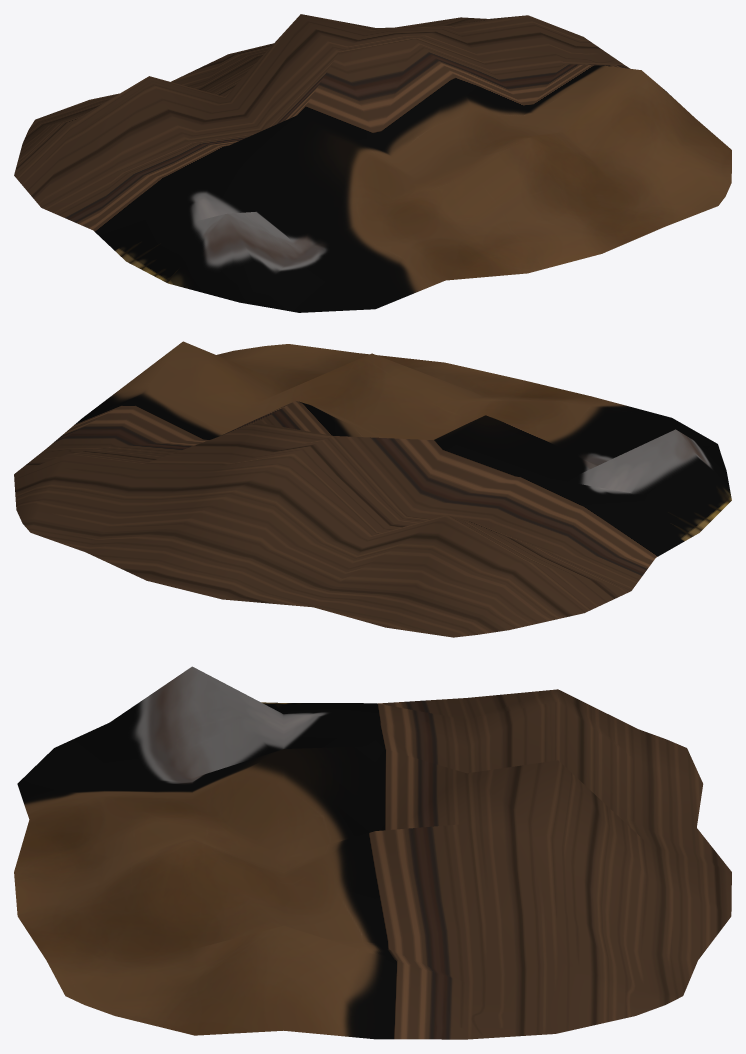
The model's file is DigSpot.fbx.
3 renders of one model, top to bottom at view 1: azimuth 30°, elevation 25°; view 2: azimuth 150°, elevation 25°; view 3: azimuth 270°, elevation 25°, orthographic. The views are drawn at different scales.
Visible parts, largest first — view 1: DigSpot; view 2: DigSpot; view 3: DigSpot.
Boxes of the visible parts, <box> form: DigSpot: <box>14,14,731,312</box>; DigSpot: <box>14,341,731,637</box>; DigSpot: <box>14,666,731,1039</box>.
Size of the model in its own units: 17.94 by 2.73 by 15.87.
